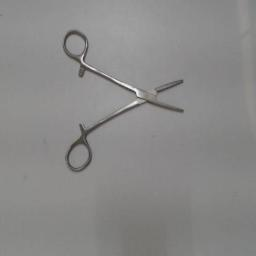Mayo Needle Holder: (60, 24, 192, 174)
